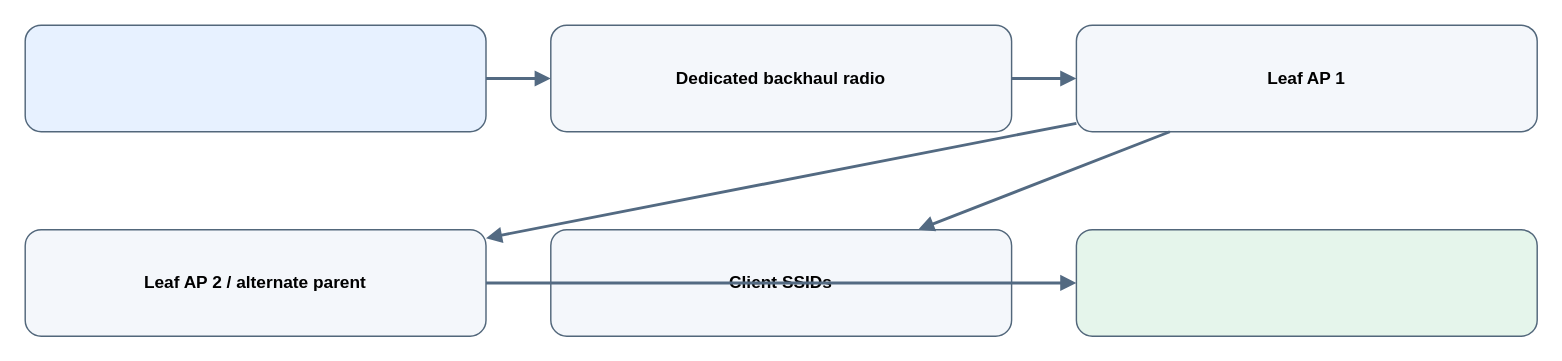
Image size: 1562x361. Some labels were removed from this diagram. Each missing label, with the centre of its shape:
Remote wired bridge segment: point 1306,282
Wired controller / mesh root: point 255,78
